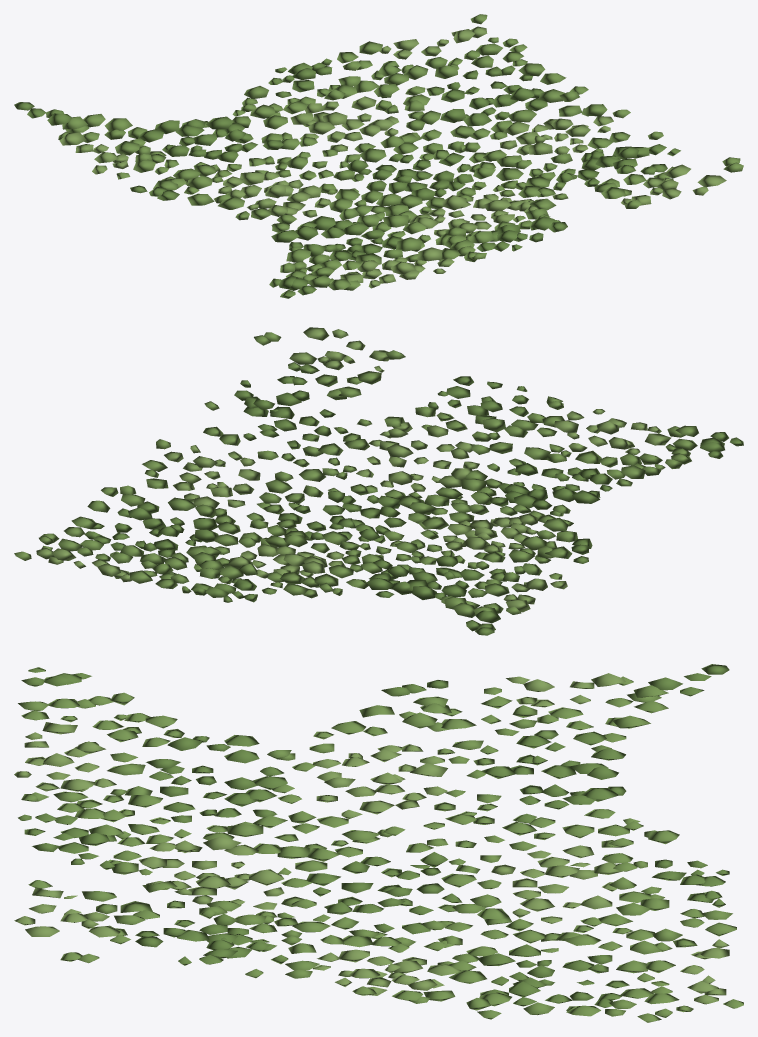
File: canopy-1--1-5.glb
The picture shows the model from 3 angles, top to bottom: view 1: azimuth 30°, elevation 25°; view 2: azimuth 150°, elevation 25°; view 3: azimuth 270°, elevation 25°; orthographic projection. The views are drawn at different scales.
Size of the model in its own units: 512 by 62.5 by 512.
Materials: 1 (1 with a texture image).
